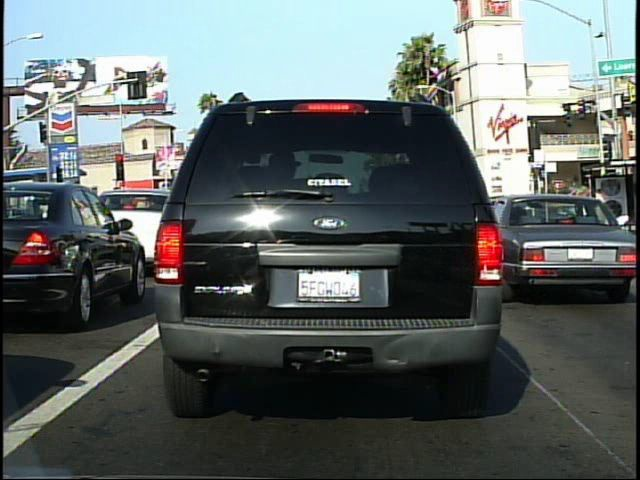person: (590, 183, 612, 247)
